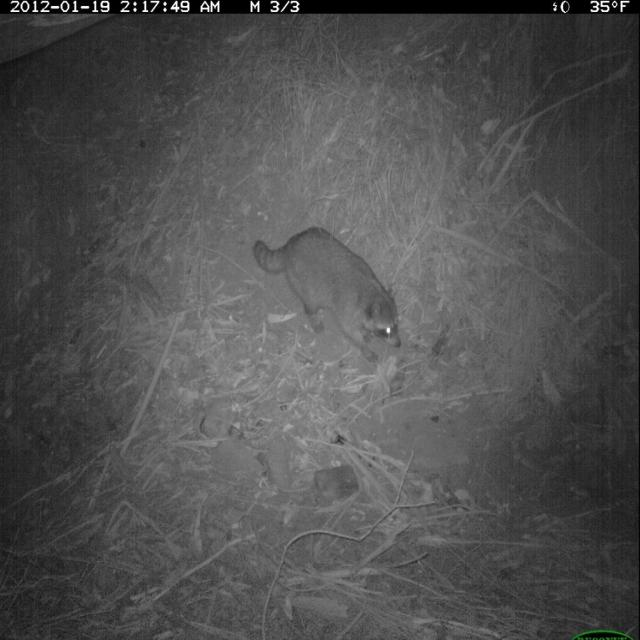raccoon: (249, 221, 414, 377)
